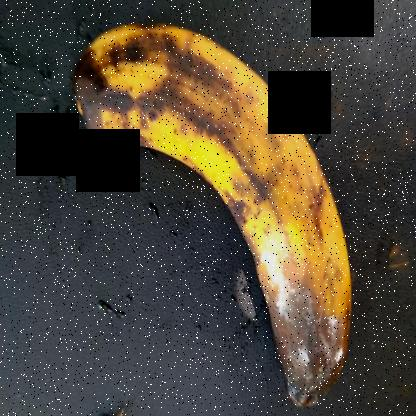overripe: (44, 1, 359, 409)
